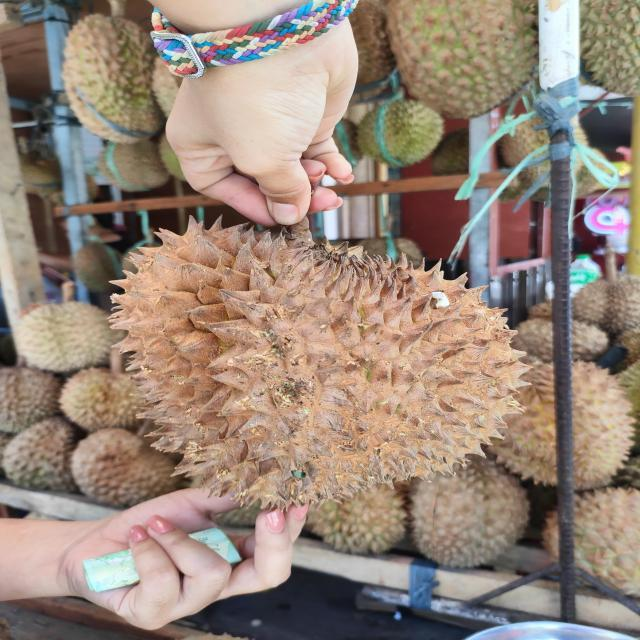mature: (109, 218, 541, 510)
